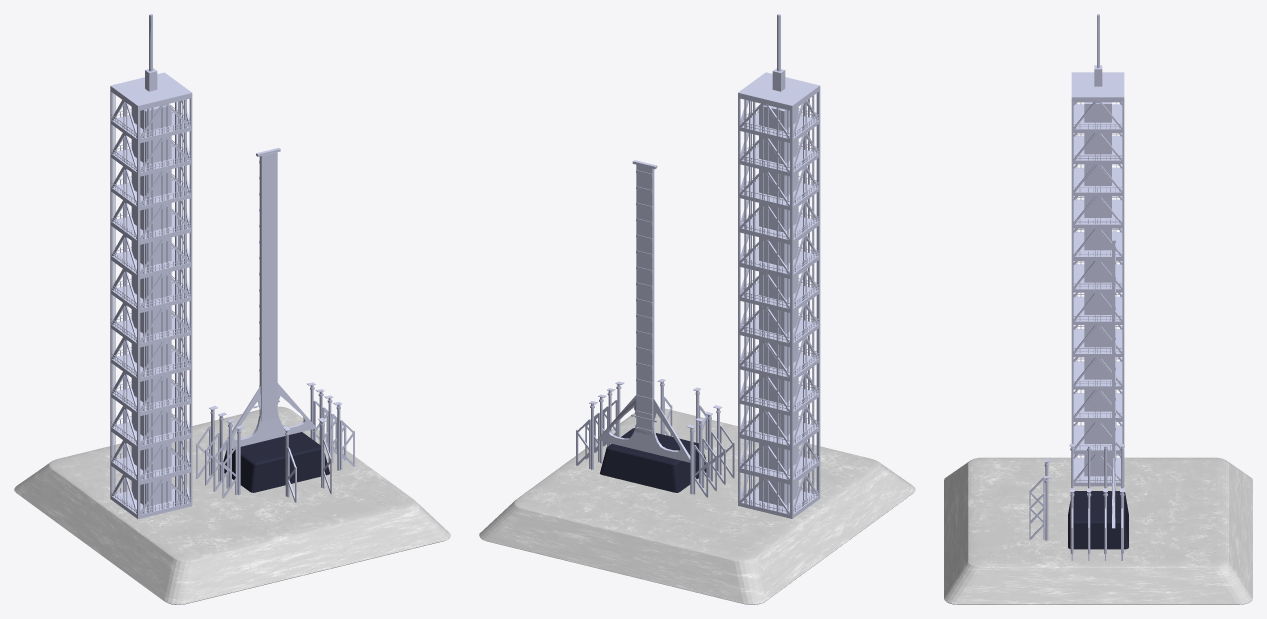
File: launch-pad-model-transformed.glb
The picture shows the model from 3 angles, left to right: view 1: azimuth 30°, elevation 25°; view 2: azimuth 150°, elevation 25°; view 3: azimuth 270°, elevation 25°; orthographic projection. The views are drawn at different scales.
Parts seen in each view (by area): view 1: Object_4, Object_8, Object_10; view 2: Object_4, Object_8, Object_10; view 3: Object_8, Object_4, Object_10.
Part boxes in pixels (x1=…): Object_4: x1=110, y1=14, x2=354, y2=519; Object_8: x1=14, y1=406, x2=450, y2=604; Object_10: x1=223, y1=432, x2=329, y2=492; Object_4: x1=576, y1=14, x2=820, y2=518; Object_8: x1=479, y1=407, x2=915, y2=604; Object_10: x1=600, y1=428, x2=706, y2=492; Object_8: x1=944, y1=457, x2=1252, y2=604; Object_4: x1=1029, y1=14, x2=1124, y2=560; Object_10: x1=1068, y1=491, x2=1128, y2=549.
Bounding box in the file's own units: 22.71 × 39.63 × 22.71.
Materials: 3 (1 with a texture image).
